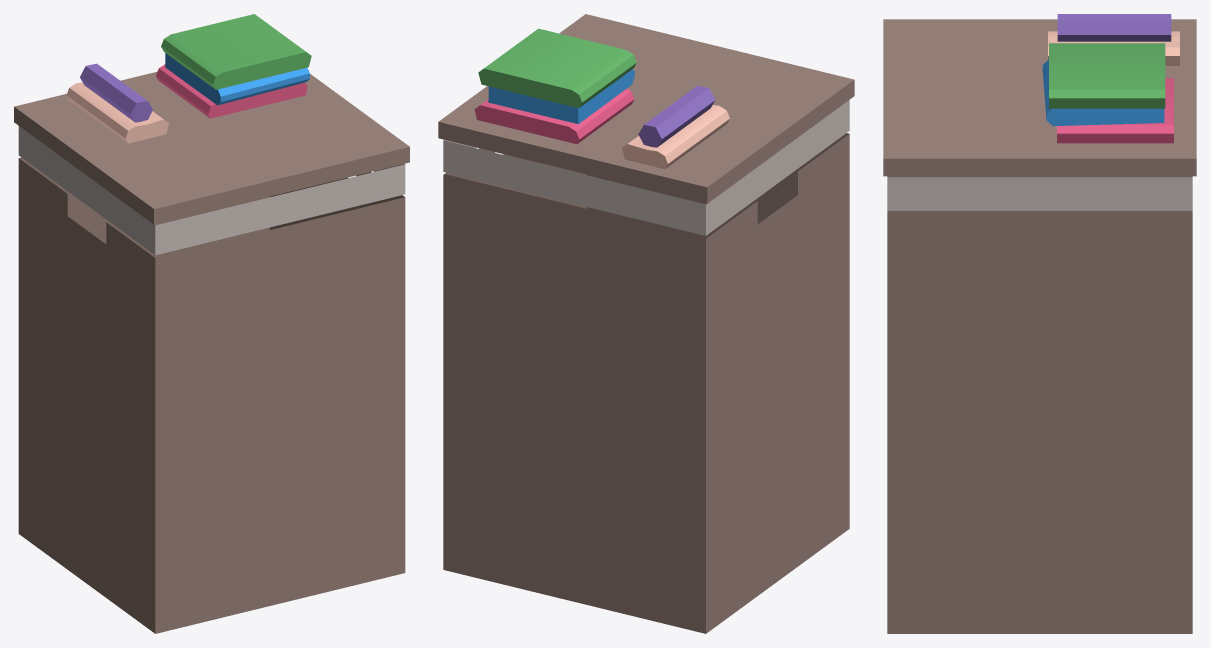
Rendered from bathroom_item_017.fbx.
3 views of the same model, side by side, from view 1: azimuth 30°, elevation 25°; view 2: azimuth 150°, elevation 25°; view 3: azimuth 270°, elevation 25° (orthographic). The views are drawn at different scales.
Visible parts, largest first — view 1: bathroom_item_017; view 2: bathroom_item_017; view 3: bathroom_item_017.
Part boxes in pixels (x1,y1,x2,y2): bathroom_item_017: (14, 14, 409, 633); bathroom_item_017: (438, 14, 854, 633); bathroom_item_017: (883, 14, 1196, 633).
Bounding box in the file's own units: 51.38 × 48.75 × 91.07.
